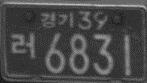1: (116, 33, 138, 76)
3: (92, 33, 114, 76), (77, 9, 91, 31)
6: (44, 32, 65, 74)
8: (68, 32, 89, 76)
9: (92, 10, 108, 31)
경기_O: (40, 11, 74, 28)
러: (10, 32, 36, 59)
